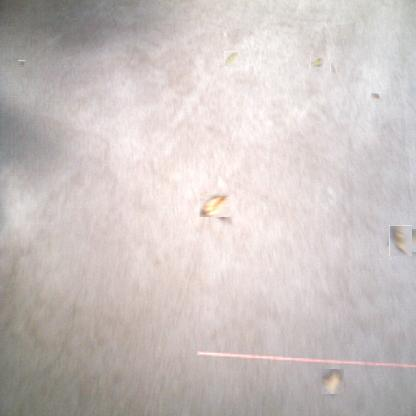dirty: (201, 192, 229, 219), (387, 227, 414, 254), (320, 368, 344, 394), (224, 51, 239, 66), (311, 57, 323, 70), (372, 92, 381, 101)
mark: (330, 62, 337, 76), (18, 60, 25, 66), (219, 61, 224, 67)
